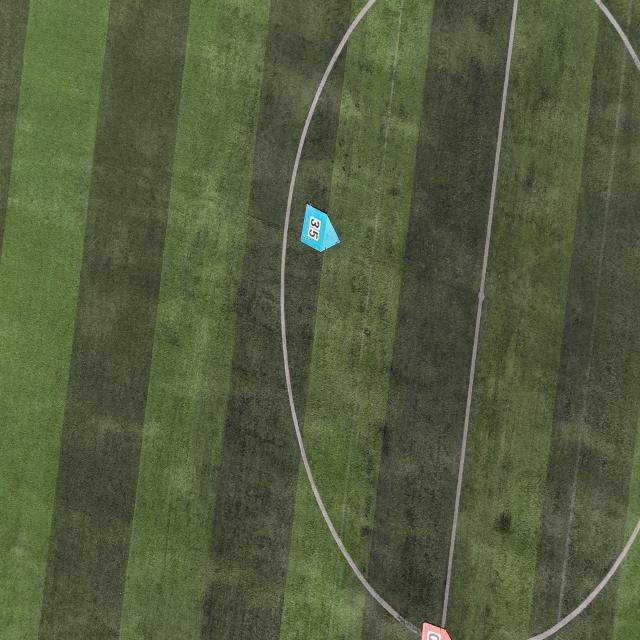board: (300, 203, 341, 251)
